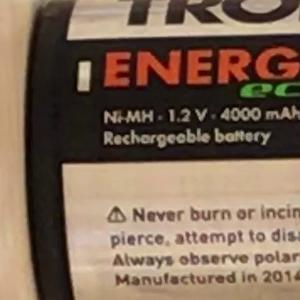keyword: (95, 101, 158, 132)
